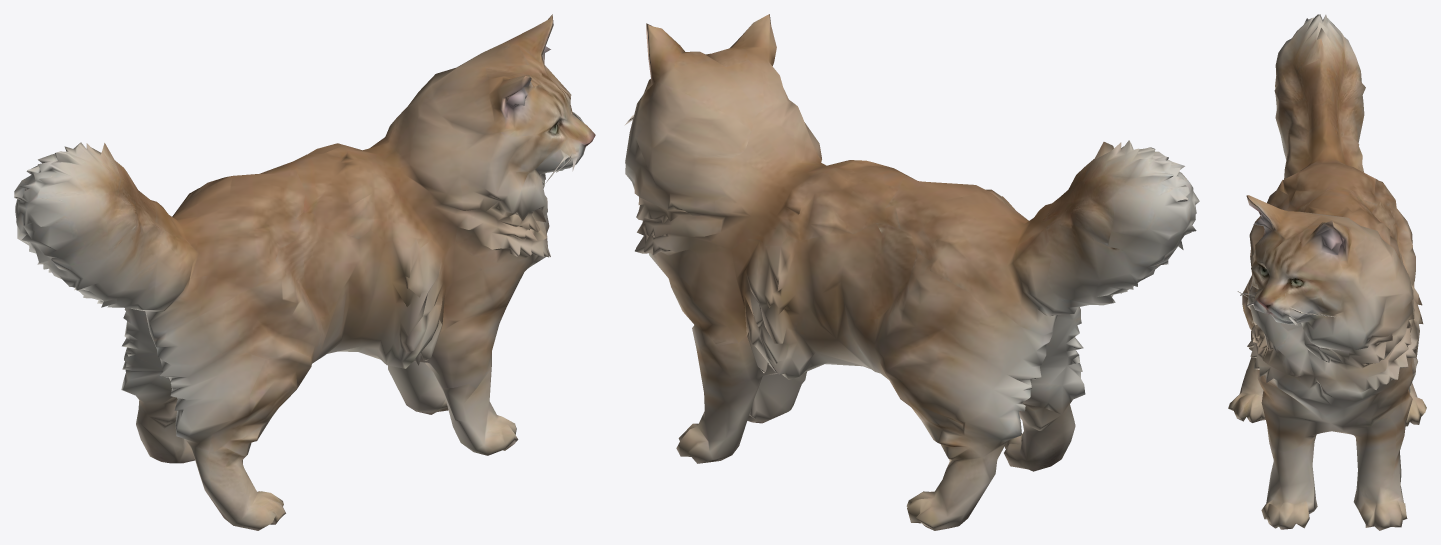
File: CHIKUWACAT-lo.glb
The picture shows the model from 3 angles, left to right: view 1: azimuth 30°, elevation 25°; view 2: azimuth 150°, elevation 25°; view 3: azimuth 270°, elevation 25°; orthographic projection. The views are drawn at different scales.
Visible parts, largest first — view 1: tripo_node_716e0e88-d8e2-4022-8ddd-9de901ff4413; view 2: tripo_node_716e0e88-d8e2-4022-8ddd-9de901ff4413; view 3: tripo_node_716e0e88-d8e2-4022-8ddd-9de901ff4413.
Part boxes in pixels (x1,y1,x2,y2): tripo_node_716e0e88-d8e2-4022-8ddd-9de901ff4413: (14,14,595,530); tripo_node_716e0e88-d8e2-4022-8ddd-9de901ff4413: (624,14,1199,530); tripo_node_716e0e88-d8e2-4022-8ddd-9de901ff4413: (1228,14,1426,530).
Size of the model in its own units: 1.5 by 0.9993 by 0.5285.
Materials: 1 (1 with a texture image).
